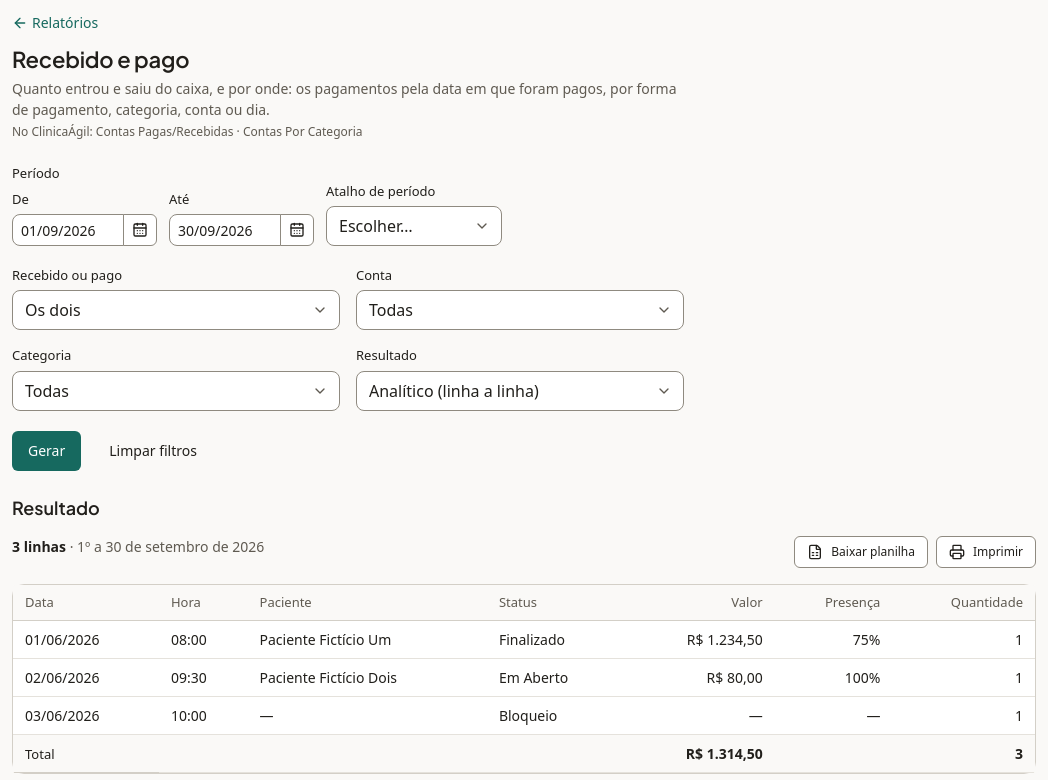
Test: Baixar planilha — o mesmo relatório da tela › deve tirar da tela a recusa da planilha quando o recorte muda
Expected: the table is shown, [13,585,1035,773]
Select "Caixa Fictício" in the dropdown labelled "Conta" at (520, 310), box [356,290,684,330]
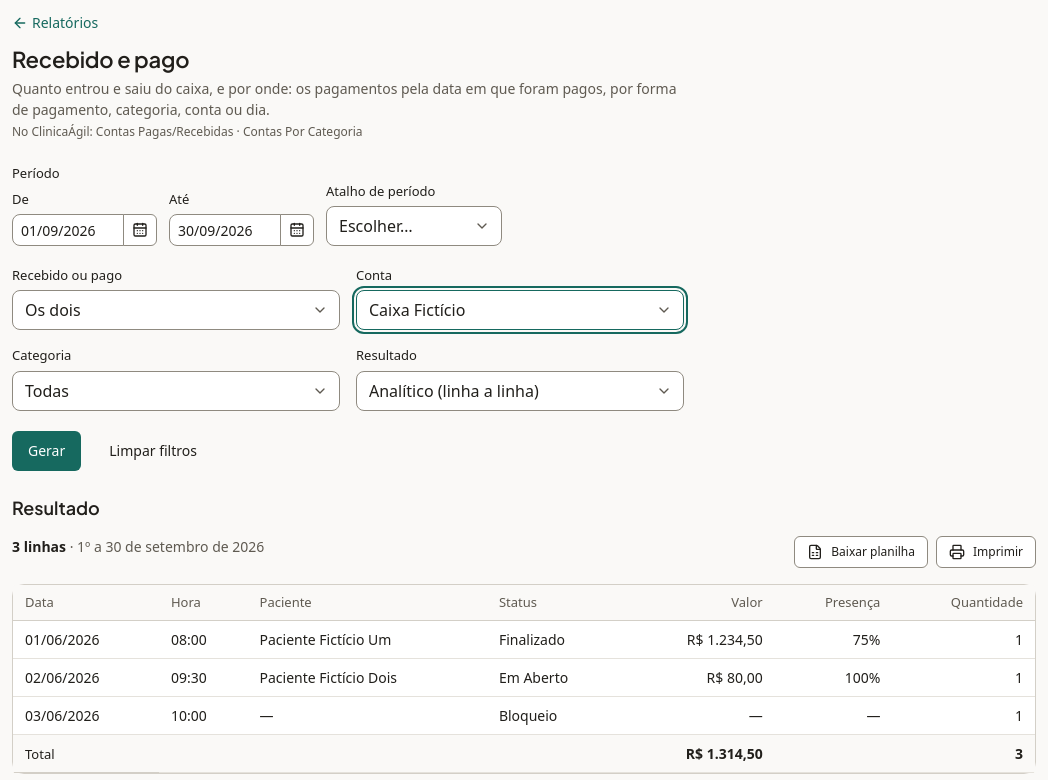
Click the button "Gerar" at (47, 450), box [12,430,81,470]
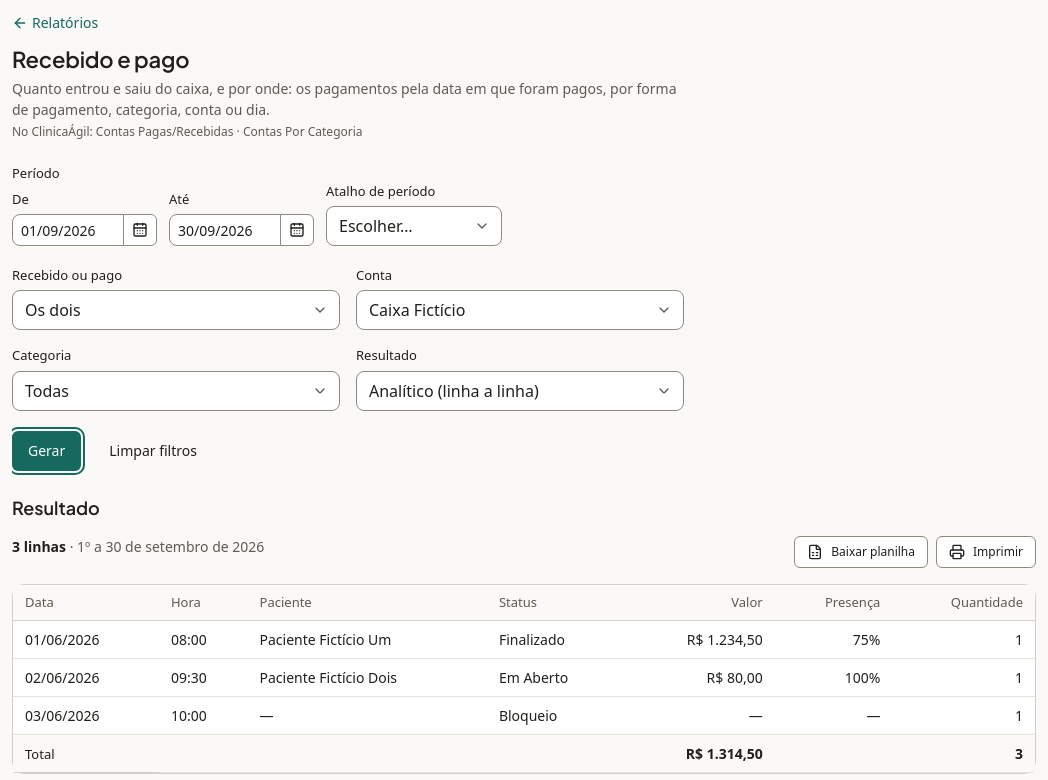
Click the button "Baixar planilha" at (861, 552), box [794,536,928,568]
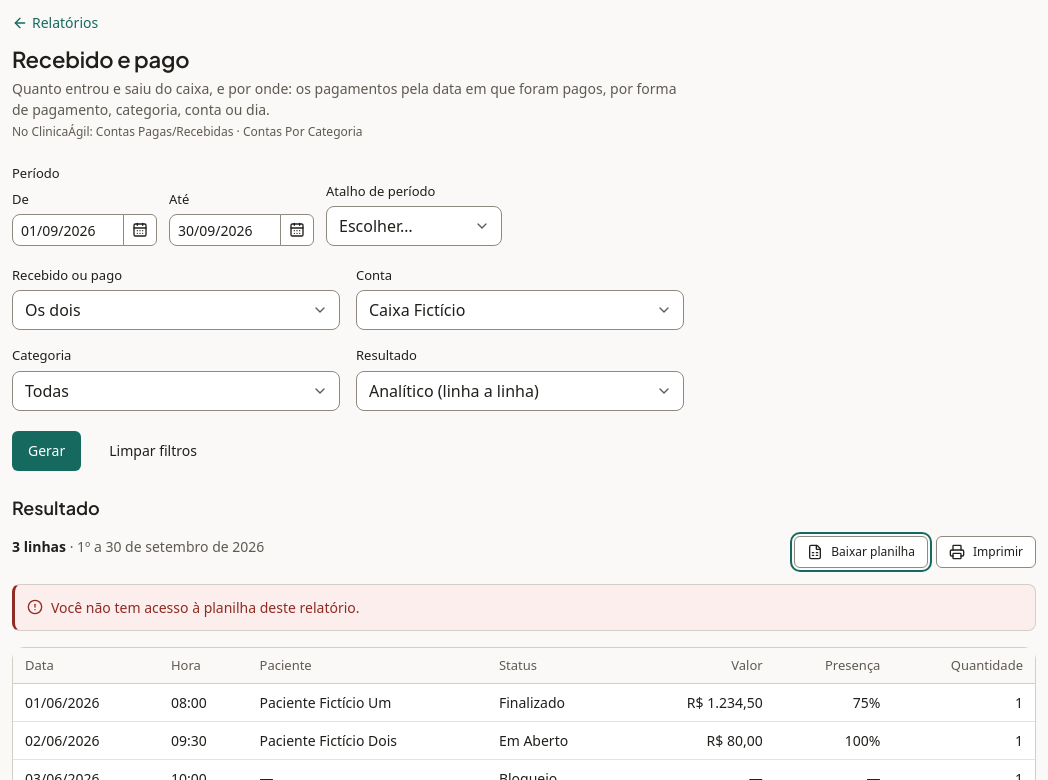
Result: the message reads "Você não tem acesso à planilha deste relatório." at [51,598,360,617]
Select "Todas" in the dropdown labelled "Conta" at (520, 310), box [356,290,684,330]
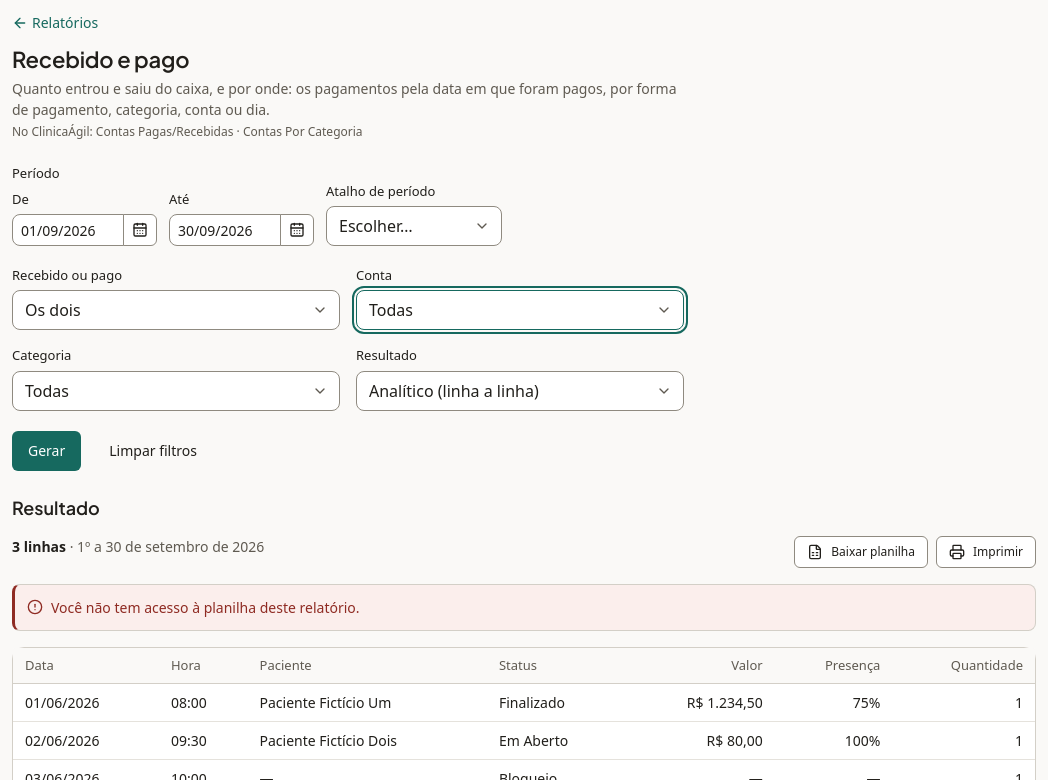
Click the button "Gerar" at (47, 450), box [12,430,81,470]
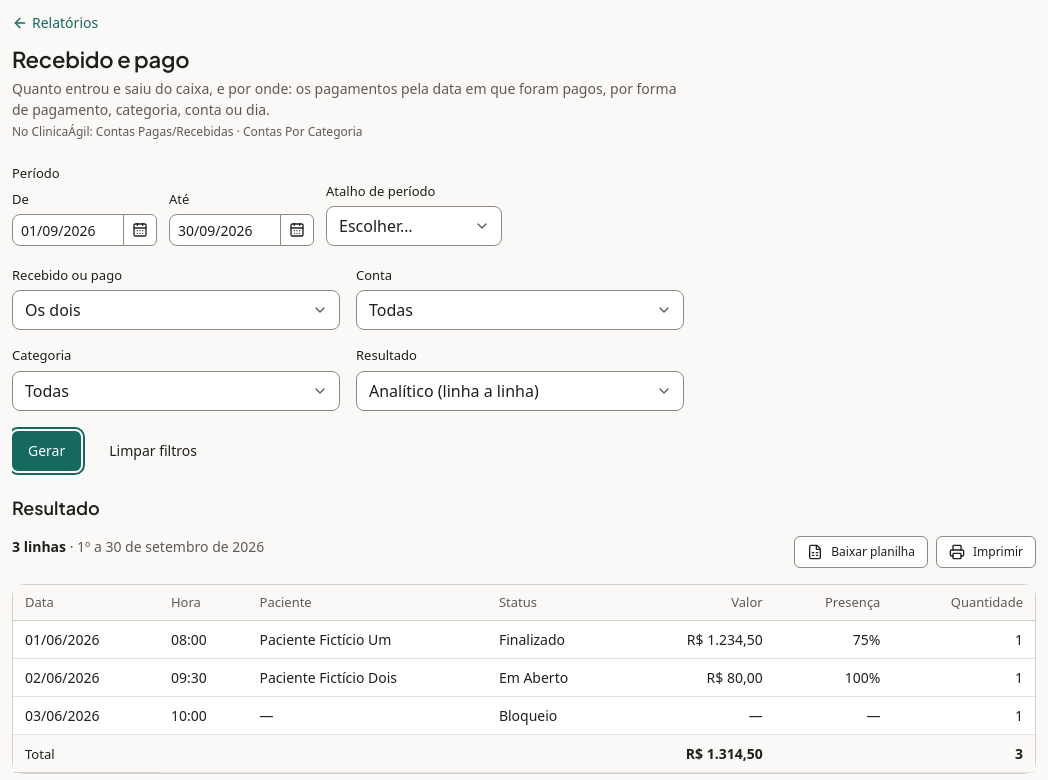
Expected: the table is shown, [13,585,1035,773]
Result: the text "Você não tem acesso à planilha deste relatório." is gone
